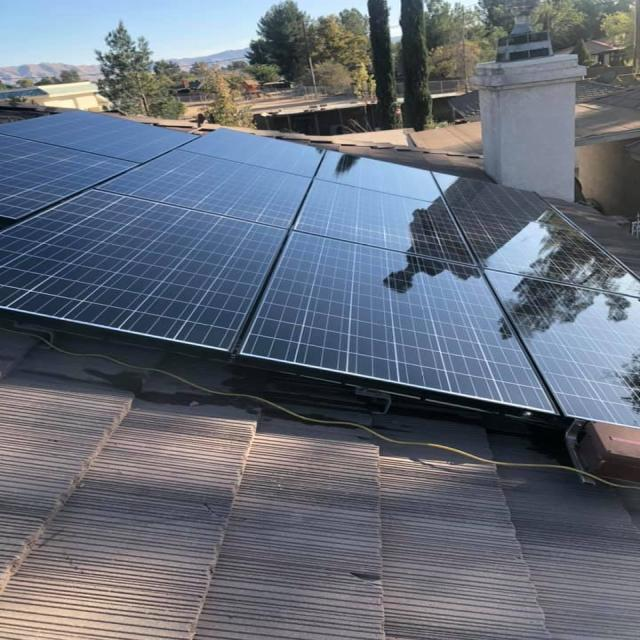clean-solar-panel: (2, 111, 638, 426)
